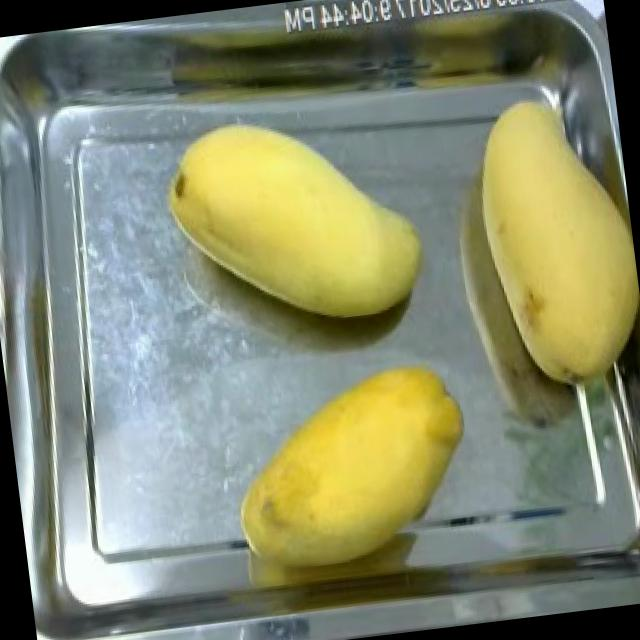fruit: (140, 89, 444, 354), (213, 352, 491, 592), (451, 75, 640, 404)
